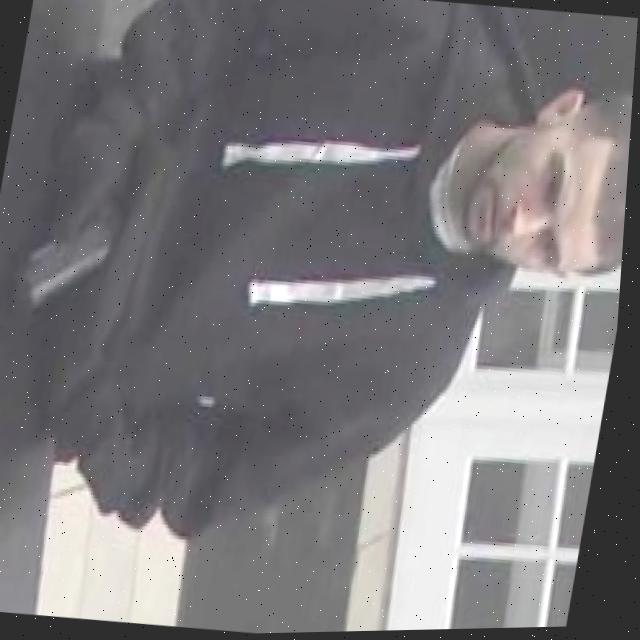pistol: (18, 205, 122, 313)
